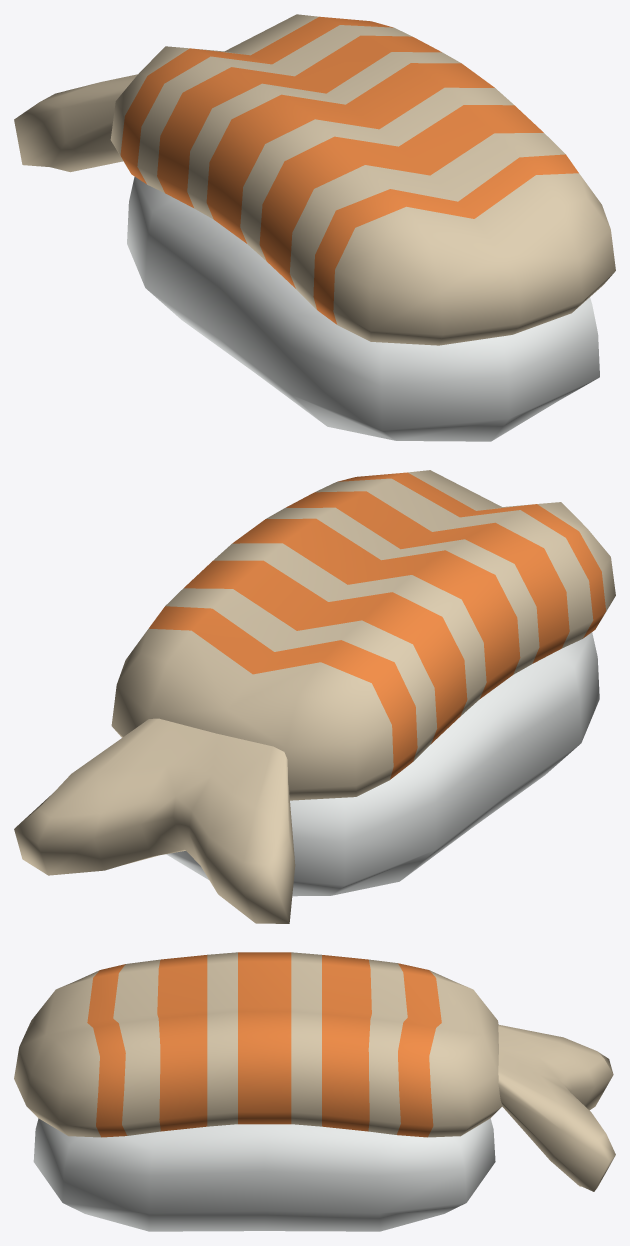
Rendered from quaternius-sushi-restaurant-food-ebinigiri.glb.
3 renders of one model, top to bottom at view 1: azimuth 30°, elevation 25°; view 2: azimuth 150°, elevation 25°; view 3: azimuth 270°, elevation 25°, orthographic. The views are drawn at different scales.
Visible parts, largest first — view 1: Food_EbiNigiri; view 2: Food_EbiNigiri; view 3: Food_EbiNigiri.
Part boxes in pixels (left/top/right/bottom): Food_EbiNigiri: left=14, top=14, right=615, bottom=441; Food_EbiNigiri: left=14, top=470, right=615, bottom=923; Food_EbiNigiri: left=14, top=952, right=615, bottom=1231.
Bounding box in the file's own units: 0.3456 × 0.3059 × 0.782.
Materials: 1 (1 with a texture image).
